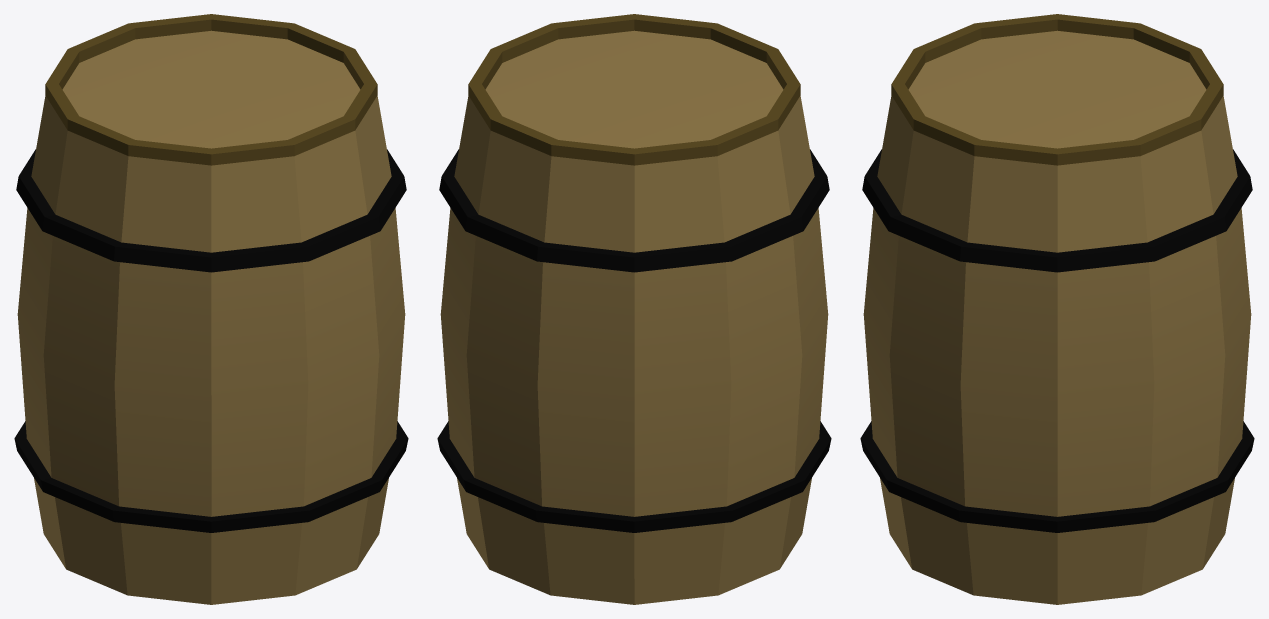
File: Barrel_BombShoot.fbx
3 views of the same model, side by side, from view 1: azimuth 30°, elevation 25°; view 2: azimuth 150°, elevation 25°; view 3: azimuth 270°, elevation 25° (orthographic).
Parts seen in each view (by area): view 1: Barrel; view 2: Barrel; view 3: Barrel.
Part boxes in pixels (box(x1,y1,x2,y2)): Barrel: box(14, 14, 408, 604); Barrel: box(437, 14, 831, 604); Barrel: box(860, 14, 1254, 604).
Size of the model in its own units: 1.21 by 1.52 by 1.21.
